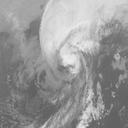cyclone: (38, 21, 96, 77)
